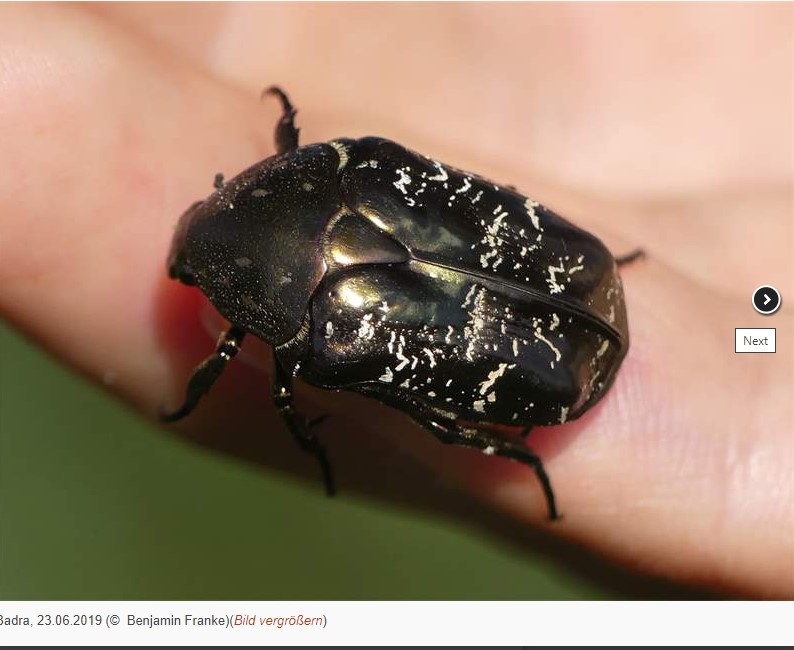Protaetia_lugubris: (156, 79, 650, 528)
